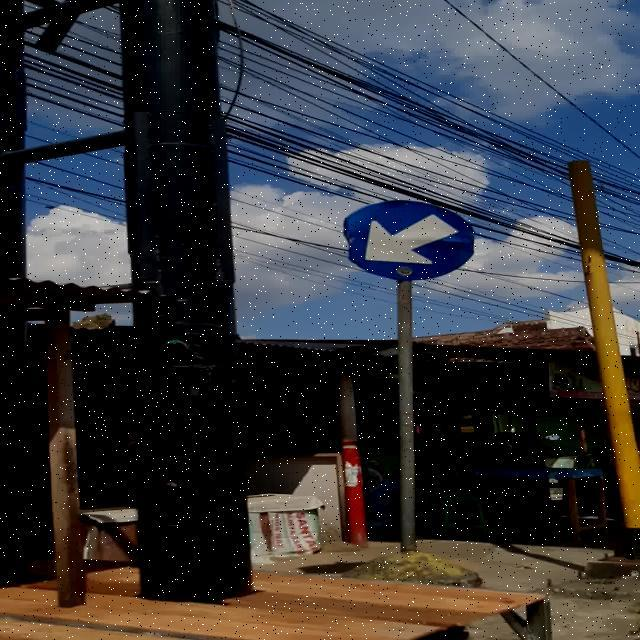Lajur Kiri: (344, 200, 474, 280)
